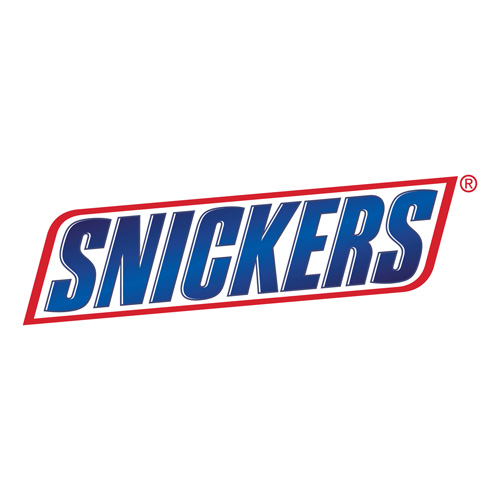snickers: (41, 185, 439, 314)
